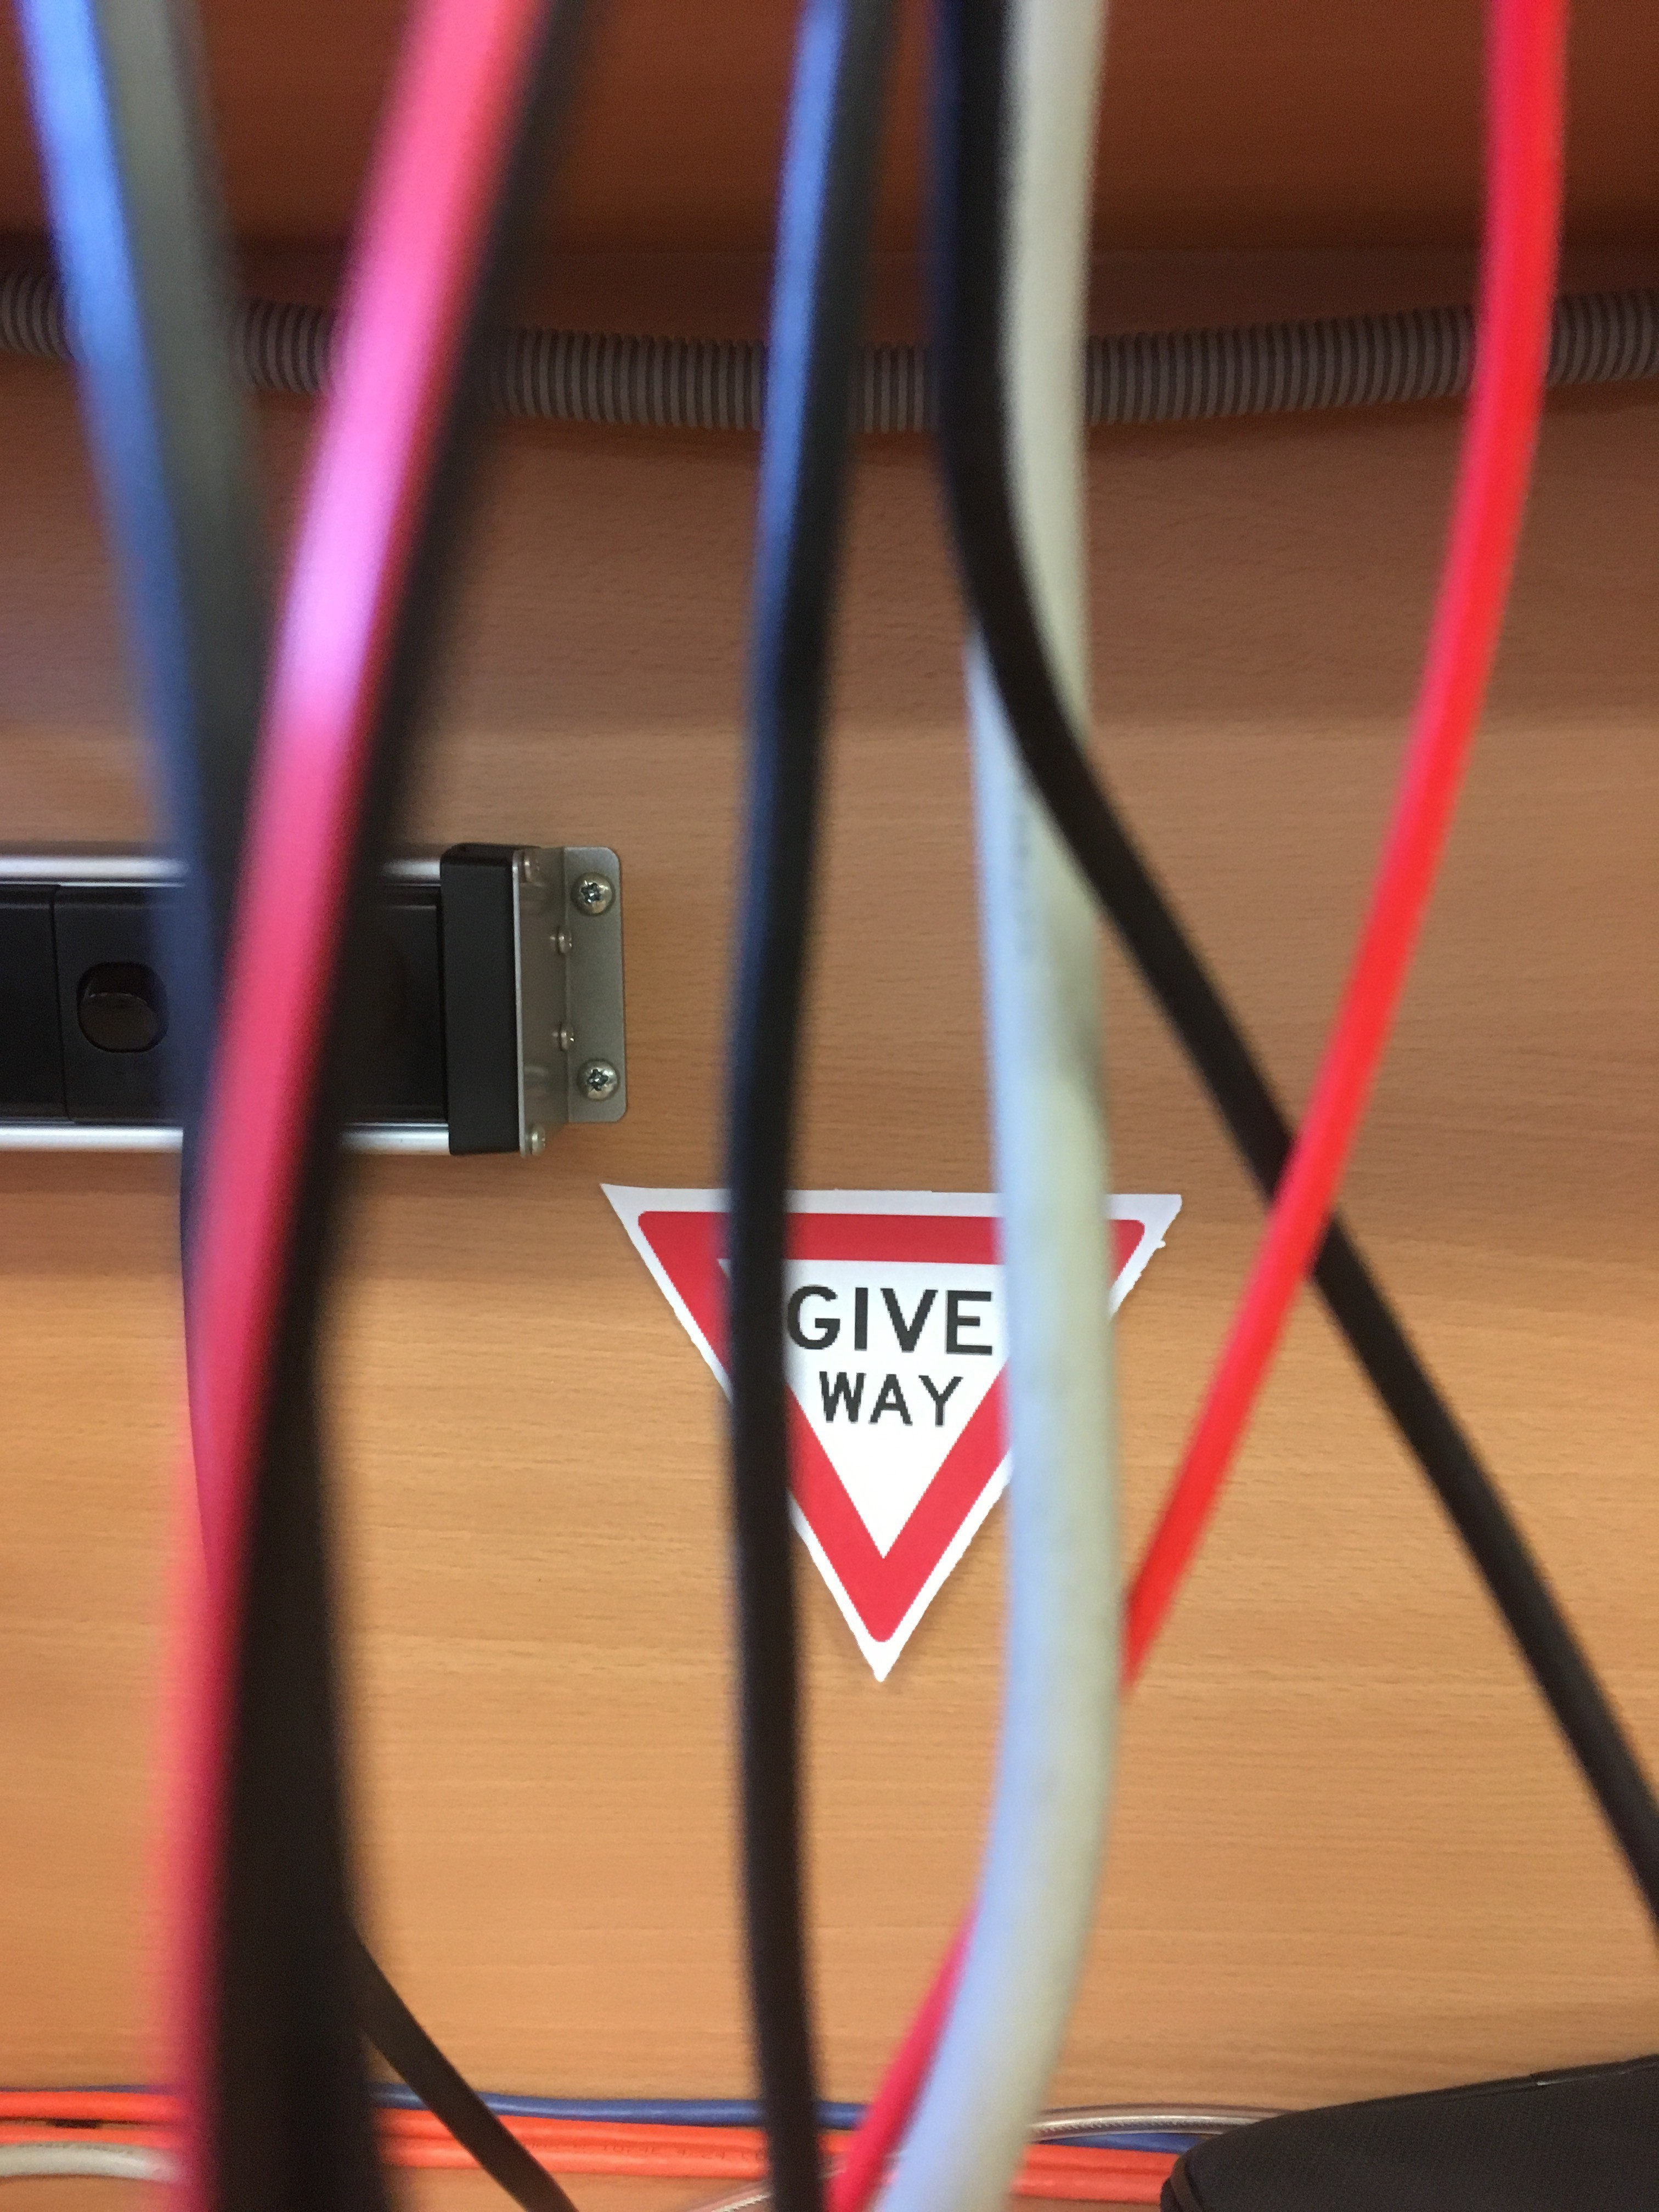giveway: (601, 1190, 1145, 1679), (626, 1190, 897, 1655), (620, 1184, 1164, 1404), (781, 1188, 993, 1676)
